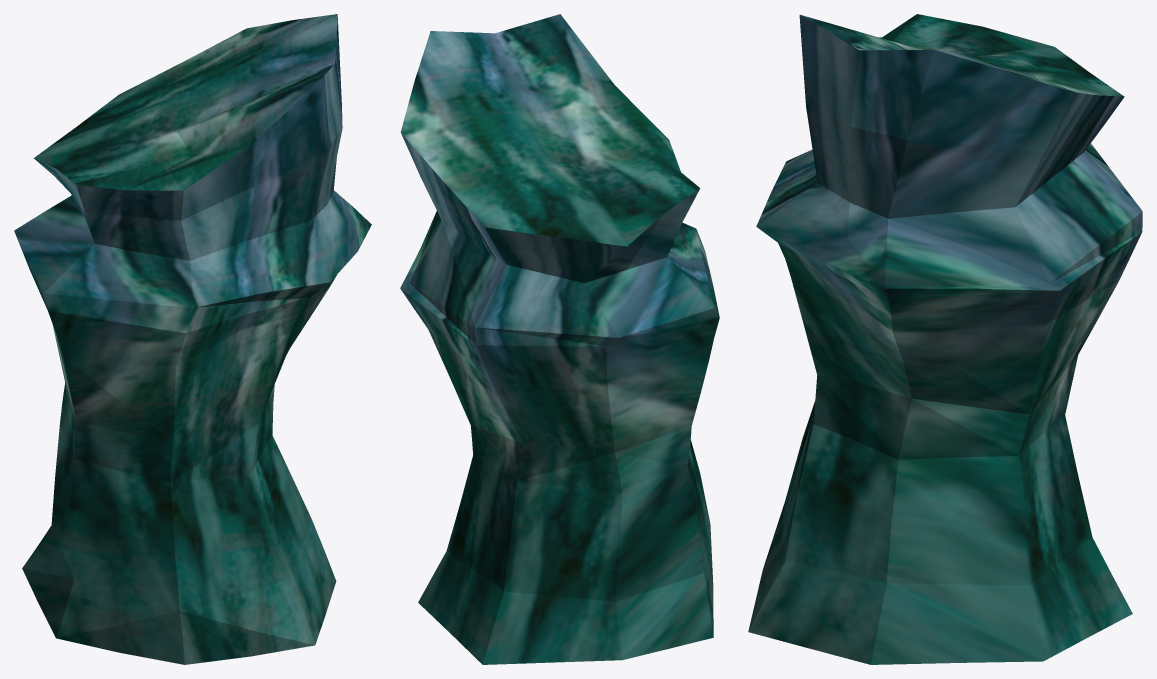
File: ColdZone_SmallMount_2.gltf
The picture shows the model from 3 angles, left to right: view 1: azimuth 30°, elevation 25°; view 2: azimuth 150°, elevation 25°; view 3: azimuth 270°, elevation 25°; orthographic projection. The views are drawn at different scales.
Parts seen in each view (by area): view 1: ColdZone_SmallMount_2; view 2: ColdZone_SmallMount_2; view 3: ColdZone_SmallMount_2.
Boxes of the visible parts, x1,y1,x2,y2 form: ColdZone_SmallMount_2: [14, 14, 371, 664]; ColdZone_SmallMount_2: [400, 14, 719, 664]; ColdZone_SmallMount_2: [748, 14, 1142, 664].
Size of the model in its own units: 28.17 by 48.77 by 26.97.
1 material, 1 textured.
